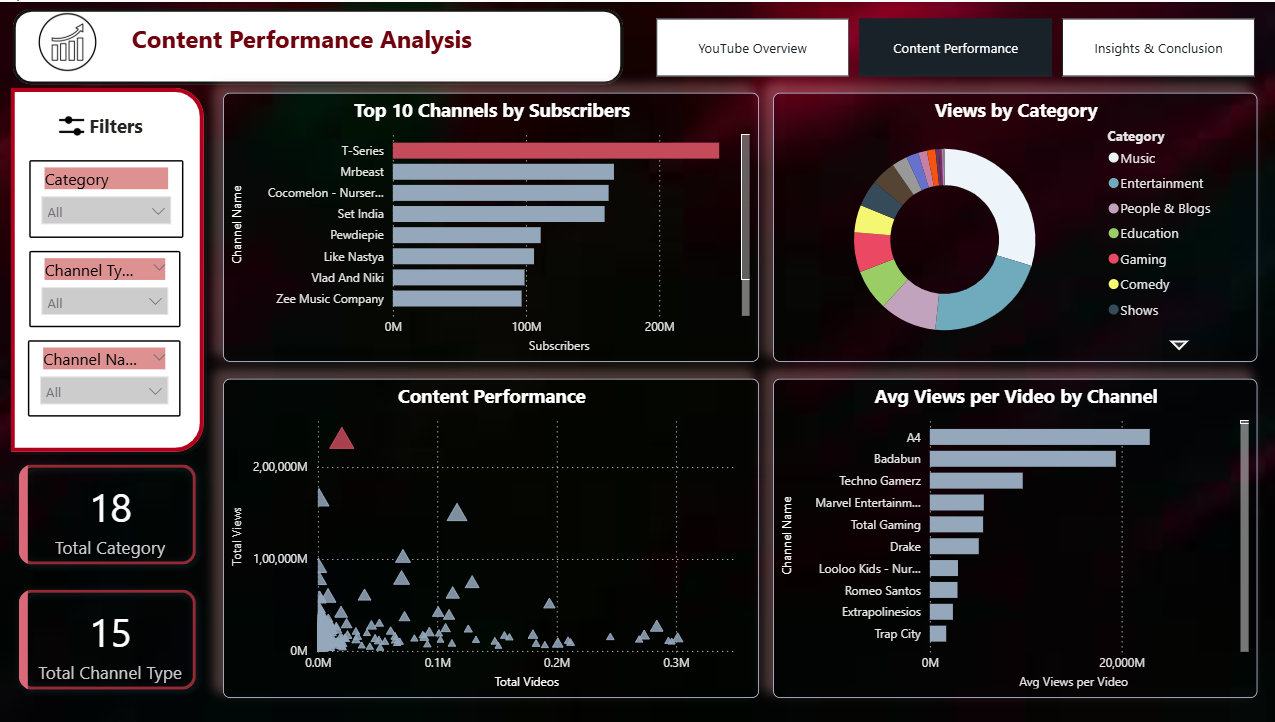

Layout of this report page (visuals, bound fields, positions):
{"tool":"powerbi","page":{"name":"Content Performance ","canvas":[1280,720],"ordinal":1},"visuals":[{"type":"shape","box":[2.8,76.4,211.1,381.9],"z":0},{"type":"shape","box":[13.8,6.9,610.6,75.6],"z":1000},{"type":"image","box":[41.7,101.4,63.9,44.4],"z":2000,"group":"g1"},{"type":"barChart","title":"Avg Views per Video by Channel ","fields":{"Category":["Global YouTube Statistics.Channel Name"],"Y":["Global YouTube Statistics.Avg Views per Video"]},"box":[773.6,376.4,484.7,319.4],"z":2000},{"type":"slicer","fields":{"Values":["Global YouTube Statistics.Channel Name"]},"box":[29.2,338.9,152.8,76.4],"z":3000},{"type":"slicer","fields":{"Values":["Global YouTube Statistics.Category"]},"box":[30.6,158.3,154.2,77.8],"z":4000},{"type":"slicer","fields":{"Values":["Global YouTube Statistics.Channel Type"]},"box":[30.6,248.6,151.4,76.4],"z":5000},{"type":"clusteredBarChart","title":"Top 10 Channels by Subscribers","fields":{"Y":["Sum(Global YouTube Statistics.Subscribers)"],"Category":["Global YouTube Statistics.Channel Name"]},"box":[223.6,90.3,536.1,269.4],"z":6000},{"type":"scatterChart","title":"Content Performance","fields":{"X":["Sum(Global YouTube Statistics.Total Videos)"],"Y":["Sum(Global YouTube Statistics.Total Views)"],"Size":["Sum(Global YouTube Statistics.Subscribers)"],"Category":["Global YouTube Statistics.Channel Name"]},"box":[223.6,376.4,536.1,319.4],"z":7000},{"type":"textbox","box":[127.9,15.1,440.1,50.9],"z":8000},{"type":"image","box":[28.9,5.5,79.8,68.8],"z":9000},{"type":"pageNavigator","box":[656.9,16.7,601.4,58],"z":10000},{"type":"cardVisual","fields":{"Data":["Count(Global YouTube Statistics.Category)","Count(Global YouTube Statistics.Channel Type)"]},"box":[2.8,445.8,211.1,259.7],"z":11000},{"type":"donutChart","title":" Views by Category","fields":{"Category":["Global YouTube Statistics.Category"],"Y":["Sum(Global YouTube Statistics.Total Views)"]},"box":[773.6,90.3,484.7,269.4],"z":12000},{"type":"group","id":"g1","title":"Group 1","box":[41.7,101.4,127.8,44.4],"z":13000},{"type":"textbox","box":[86.1,105.6,83.3,34.7],"z":13000,"group":"g1"}]}

Visuals, with their boxes in screenshot pixels (x1, y1, x2, y2), scaled from the page's 1280x720 canvas onto the 1275x722 screenshot:
shape: Rect(3, 77, 213, 460)
shape: Rect(14, 7, 622, 83)
image: Rect(42, 102, 105, 146)
"Avg Views per Video by Channel " barChart: Rect(771, 377, 1253, 698)
slicer - Global YouTube Statistics.Channel Name: Rect(29, 340, 181, 416)
slicer - Global YouTube Statistics.Category: Rect(30, 159, 184, 237)
slicer - Global YouTube Statistics.Channel Type: Rect(30, 249, 181, 326)
"Top 10 Channels by Subscribers" clusteredBarChart: Rect(223, 91, 757, 361)
"Content Performance" scatterChart: Rect(223, 377, 757, 698)
textbox: Rect(127, 15, 566, 66)
image: Rect(29, 6, 108, 75)
pageNavigator: Rect(654, 17, 1253, 75)
cardVisual - Count(Global YouTube Statistics.Category) x Count(Global YouTube Statistics.Channel Type): Rect(3, 447, 213, 707)
" Views by Category" donutChart: Rect(771, 91, 1253, 361)
"Group 1" group: Rect(42, 102, 169, 146)
textbox: Rect(86, 106, 169, 141)
